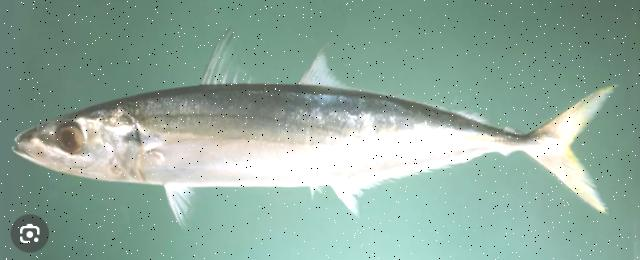Mulut: (8, 122, 42, 170)
Sirip Anal: (328, 146, 496, 214)
Sirip Dada: (142, 130, 244, 176)
Sirip Ekor: (532, 73, 622, 226)
Sirip Perut: (158, 168, 206, 234)
Sirip Punggung: (196, 22, 372, 100)
